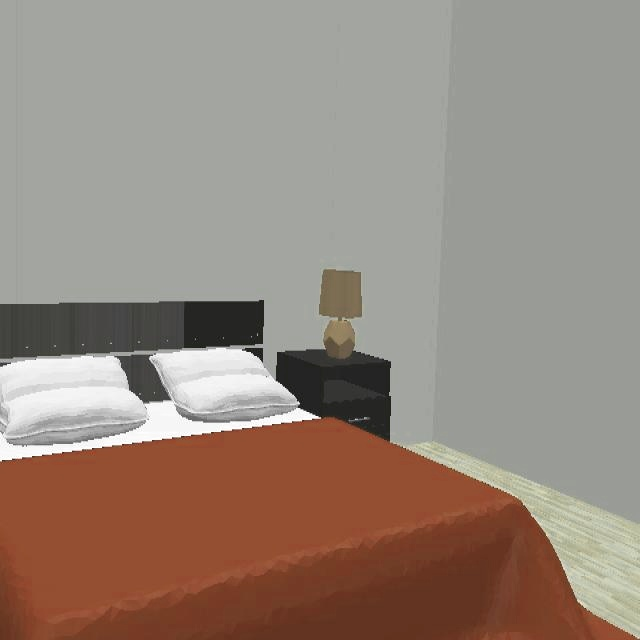bed: (0, 300, 639, 640)
lamp: (318, 269, 364, 364)
nighttable: (275, 351, 391, 439)
pillow: (4, 347, 319, 447)
